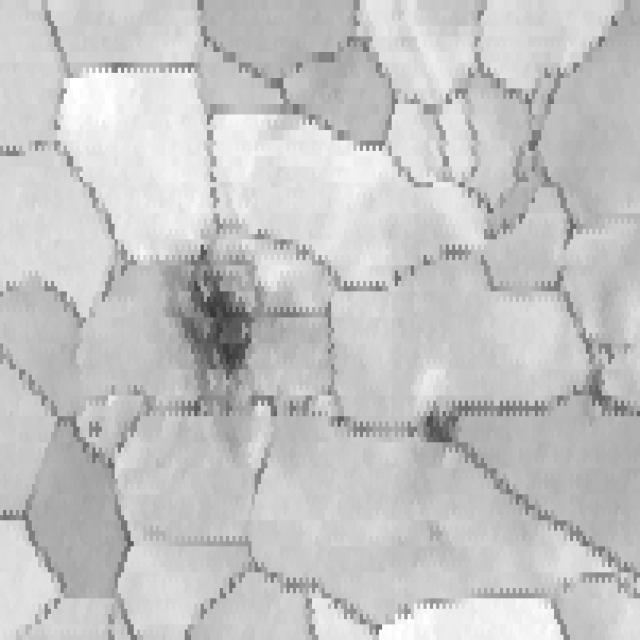good_void: (178, 240, 256, 416), (418, 387, 469, 450), (86, 415, 103, 441)
